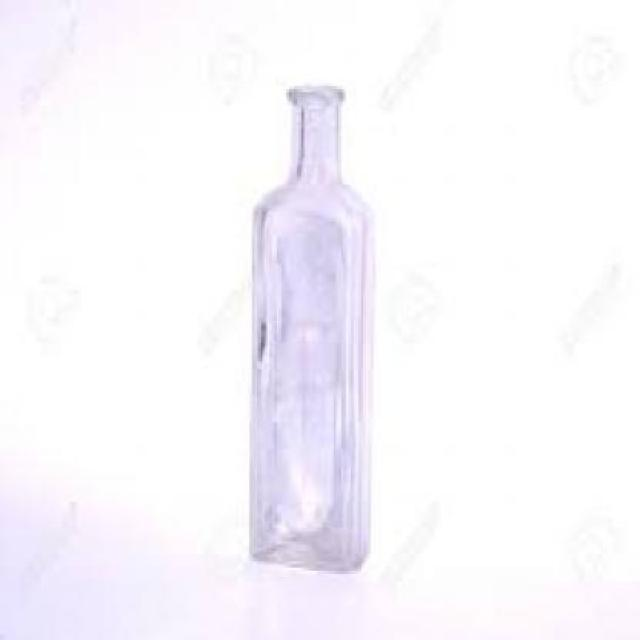kaca: (249, 83, 374, 565)
